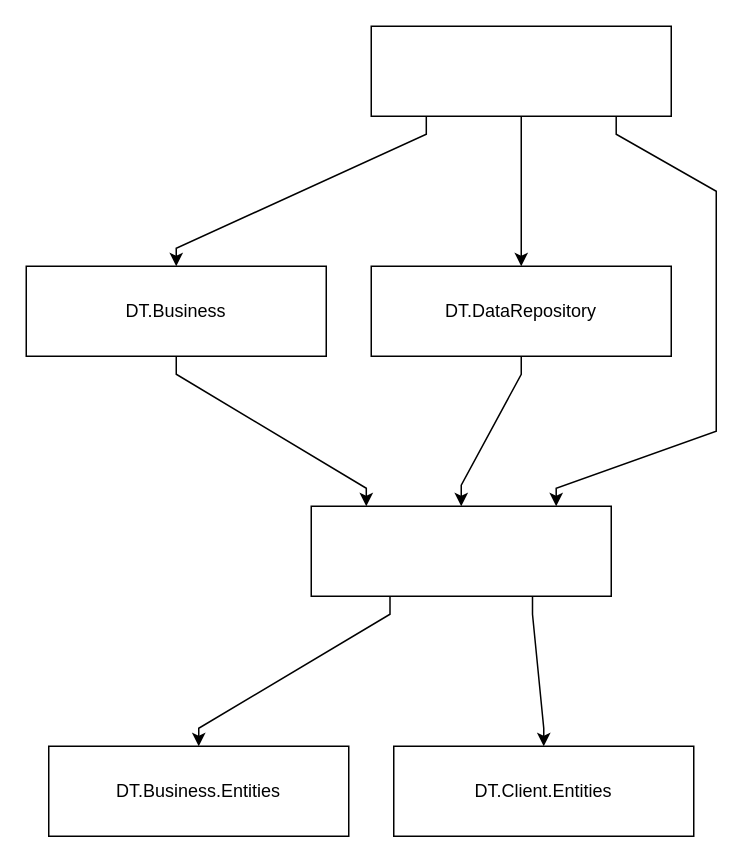
The diagram is 755 pixels wide and 863 high, and some of its shapes have lost their labels. Each missing label, with the centre of its shape:
DT.Business.Interface: (460,550)
DT.Client.WebAPI: (520,70)
